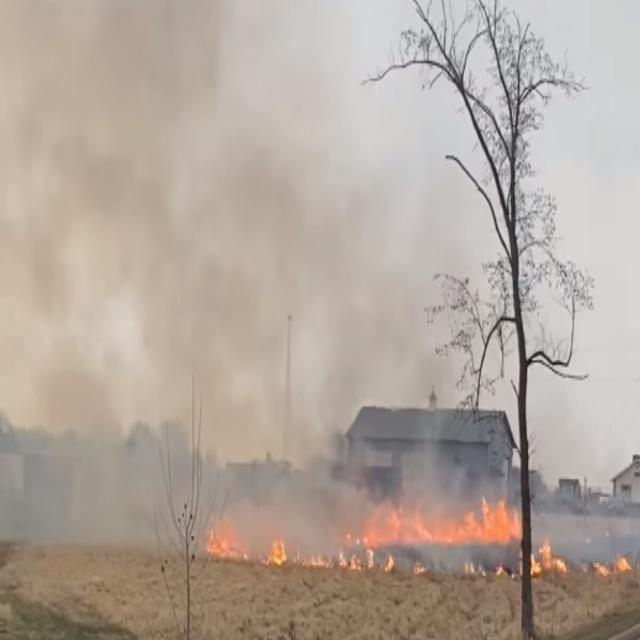Fire: (0, 4, 374, 551), (207, 490, 572, 580)
